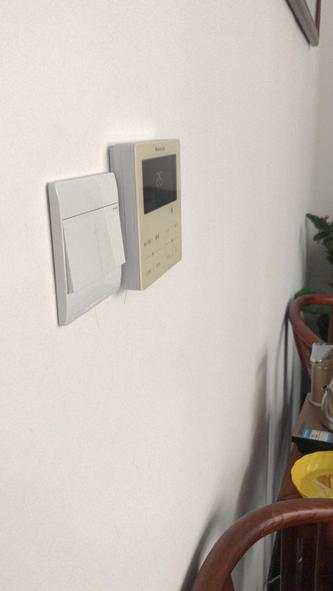switch: (63, 208, 129, 292)
